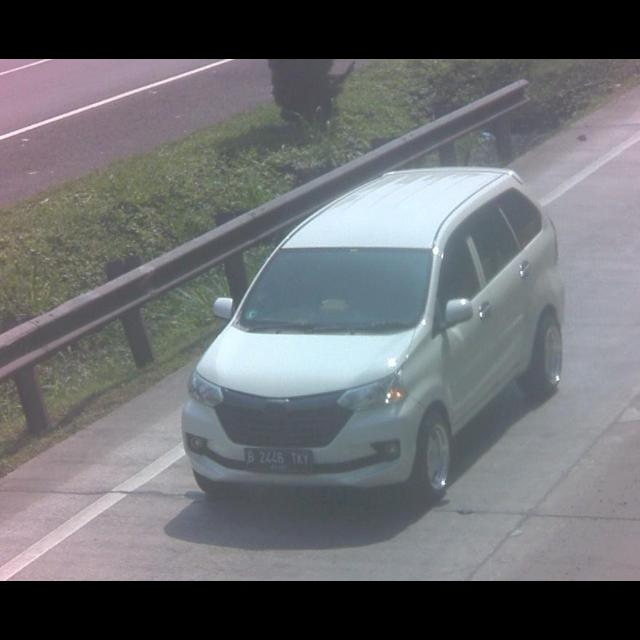plate: (239, 446, 315, 478)
